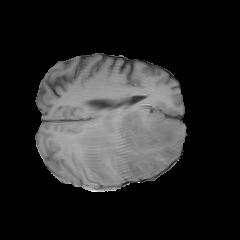glioma: (73, 109, 179, 183)
